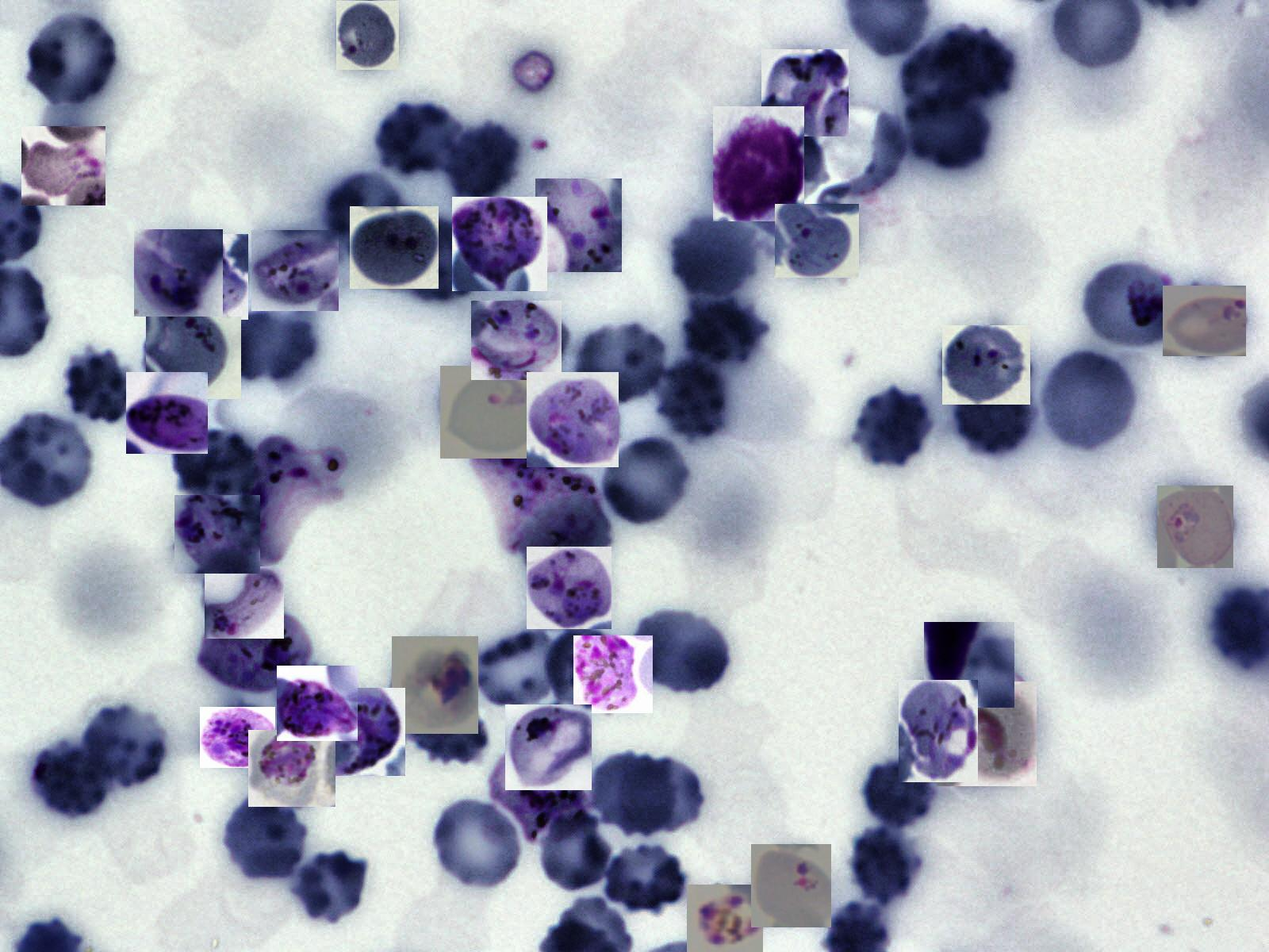Infected: (241, 440, 351, 568), (470, 440, 596, 550), (937, 682, 1037, 787), (714, 106, 805, 221), (489, 748, 592, 843), (197, 612, 312, 696), (1079, 259, 1177, 351), (452, 197, 547, 291), (527, 372, 619, 467), (440, 366, 533, 459), (392, 636, 478, 734), (535, 178, 622, 272), (899, 680, 978, 782), (134, 229, 223, 317), (317, 688, 406, 776), (146, 317, 241, 399), (924, 622, 1014, 708), (762, 49, 849, 136), (505, 704, 592, 790), (163, 234, 248, 320), (351, 207, 439, 290), (471, 301, 562, 380), (251, 230, 339, 311), (942, 325, 1030, 405), (527, 547, 611, 629), (174, 495, 260, 574), (126, 372, 208, 454), (248, 731, 335, 808), (751, 844, 831, 927), (21, 126, 105, 205), (573, 636, 653, 714), (1157, 486, 1233, 568), (775, 205, 859, 278), (277, 666, 358, 741), (1163, 286, 1246, 356), (205, 566, 284, 639), (687, 885, 763, 952), (200, 707, 275, 768), (336, 1, 399, 70)
Uninfected: (1038, 349, 1137, 454), (22, 10, 121, 109), (428, 797, 527, 893), (634, 606, 734, 697), (949, 363, 1040, 463), (598, 434, 694, 527), (392, 213, 485, 309), (220, 793, 312, 886), (667, 211, 762, 301), (570, 320, 668, 407), (79, 703, 171, 791), (473, 628, 565, 715), (28, 737, 118, 824), (519, 493, 613, 575), (620, 754, 711, 838), (376, 100, 467, 179), (851, 385, 935, 470), (589, 754, 676, 835), (216, 313, 316, 383), (289, 845, 374, 927), (845, 822, 926, 908), (535, 808, 616, 894), (927, 27, 1015, 106), (174, 431, 261, 509), (600, 841, 689, 917), (904, 91, 988, 171), (859, 752, 942, 832), (405, 689, 493, 764), (658, 355, 733, 443), (60, 347, 137, 428), (545, 628, 620, 708), (446, 121, 519, 202), (324, 173, 403, 246), (683, 298, 769, 363)
